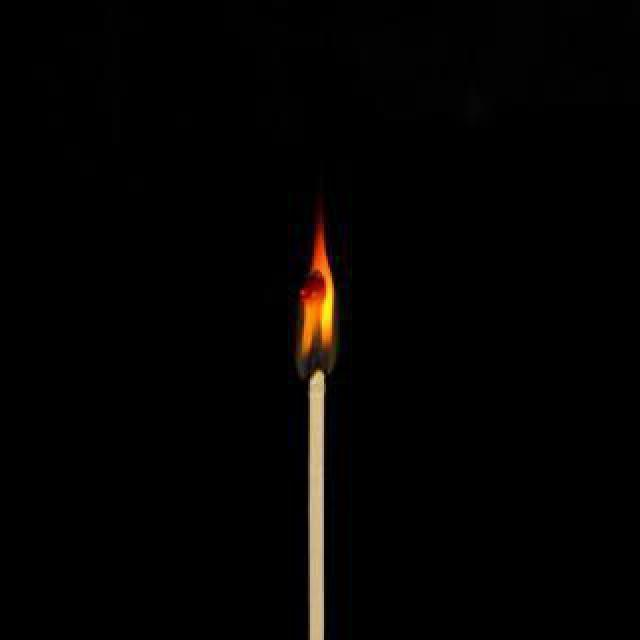Fire: (286, 192, 344, 374)
